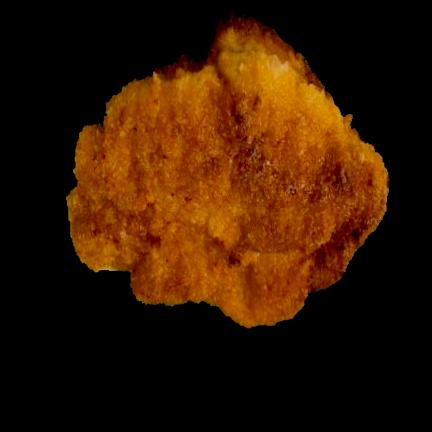chicken: (68, 14, 388, 327)
